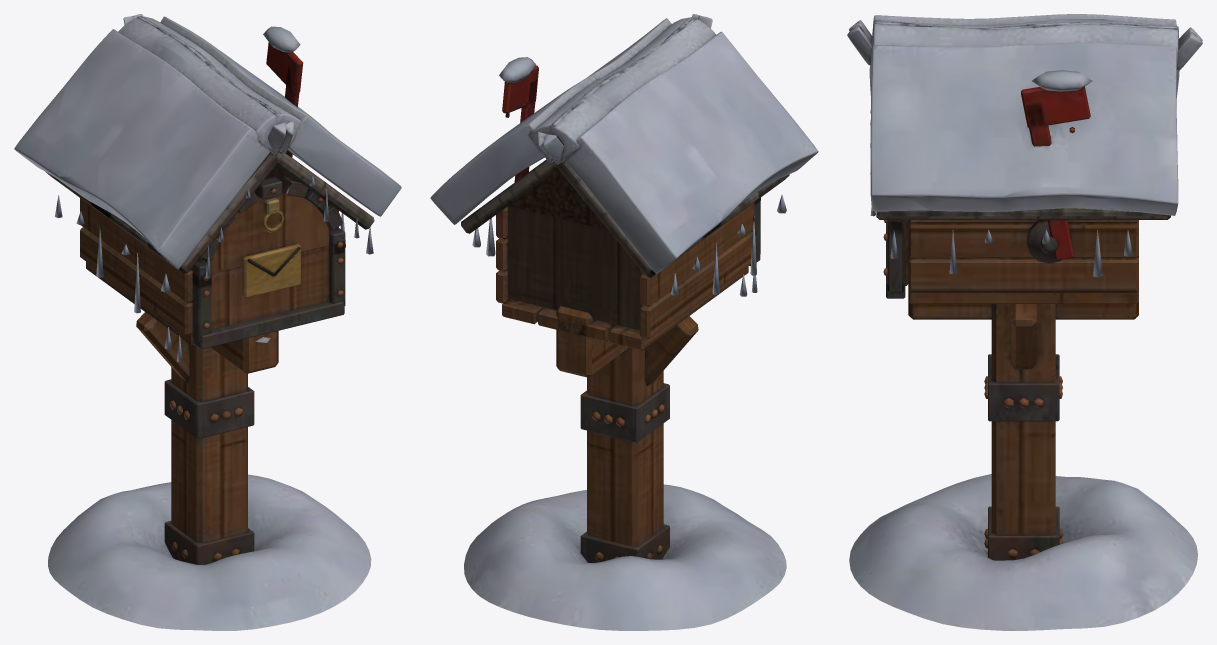
File: mailbox.glb
3 views of the same model, side by side, from view 1: azimuth 30°, elevation 25°; view 2: azimuth 150°, elevation 25°; view 3: azimuth 270°, elevation 25° (orthographic). The views are drawn at different scales.
Parts seen in each view (by area): view 1: model; view 2: model; view 3: model.
Boxes of the visible parts, box(x1,y1,x2,y2) form: model: box(14, 14, 401, 630); model: box(430, 14, 818, 630); model: box(847, 14, 1202, 630).
Bounding box in the file's own units: 1.09 × 1.87 × 1.11.
Materials: 1 (1 with a texture image).
